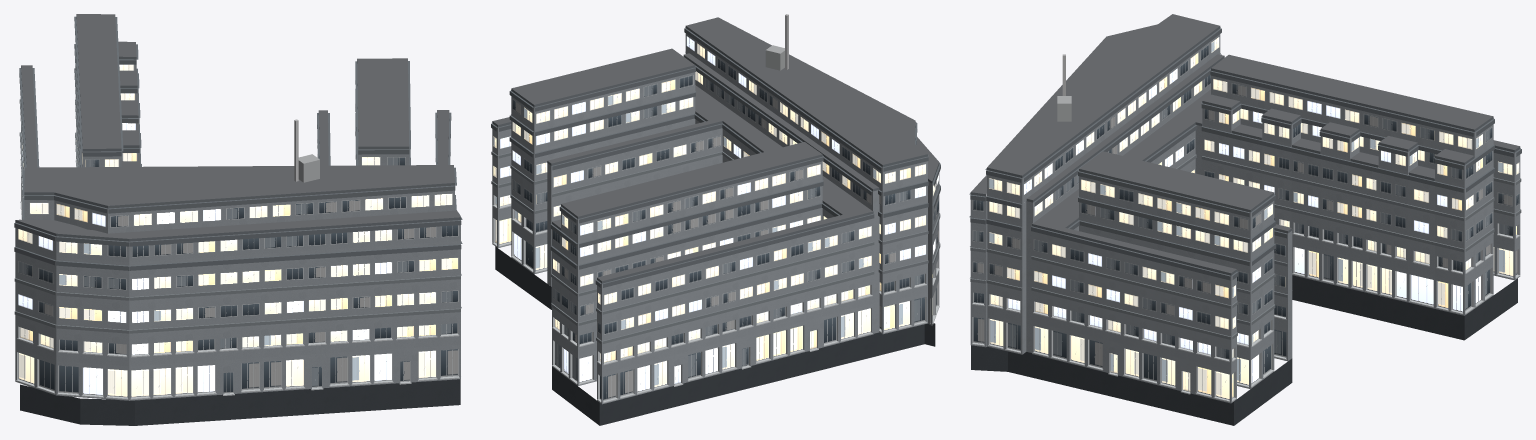
The model's file is docks.glb.
3 renders of one model, left to right at view 1: azimuth 30°, elevation 25°; view 2: azimuth 150°, elevation 25°; view 3: azimuth 270°, elevation 25°, orthographic. The views are drawn at different scales.
Parts seen in each view (by area): view 1: docks; view 2: docks; view 3: docks.
Boxes of the visible parts, x1,y1,x2,y2 form: docks: [14, 14, 462, 425]; docks: [491, 14, 940, 425]; docks: [969, 14, 1521, 425].
Bounding box in the file's own units: 56.34 × 31.99 × 61.24.
3 materials, 3 textured.
